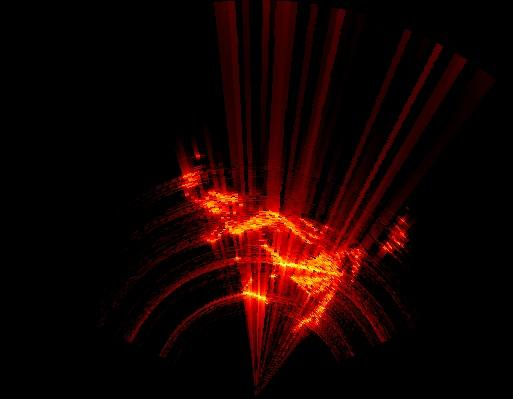shipwreck: (184, 173, 365, 331)
